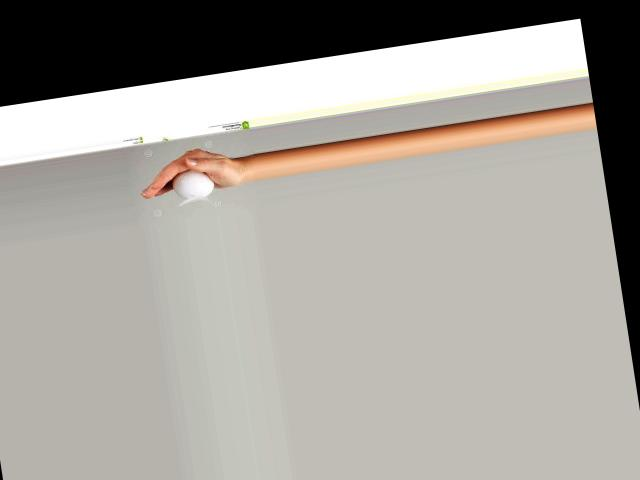egg: (169, 166, 215, 200)
